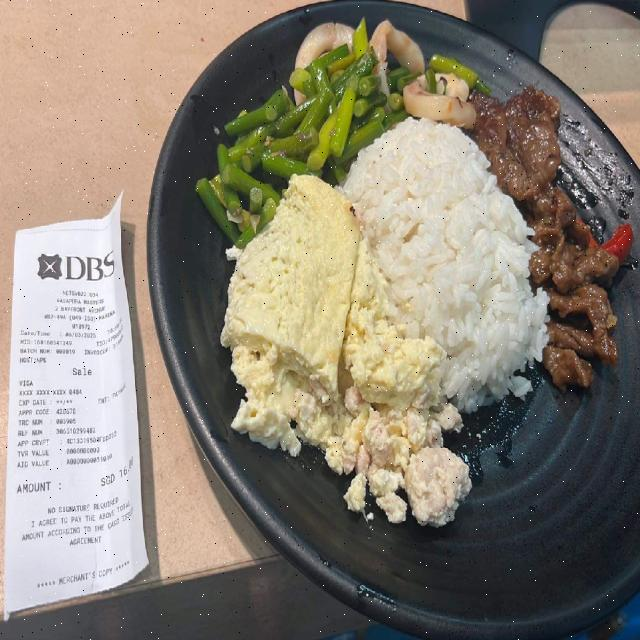Egg: (221, 175, 471, 526)
Green veg: (196, 19, 423, 248), (424, 55, 490, 94)
Rice: (340, 119, 548, 412)
